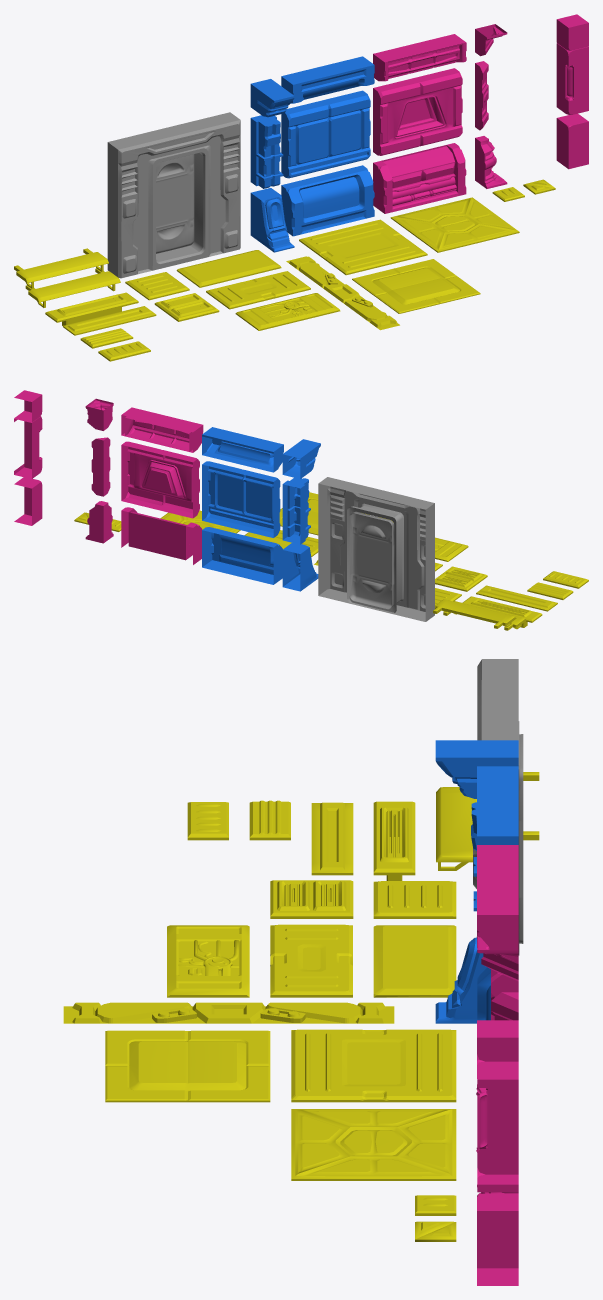
File: Sci_Fi_Modules.fbx
3 views of the same model, one above another, from view 1: azimuth 30°, elevation 25°; view 2: azimuth 150°, elevation 25°; view 3: azimuth 270°, elevation 25° (orthographic). The views are drawn at different scales.
Visible parts, largest first — view 1: doorframe, wall_mid2, wall_mid1, wall_bottom2, wall_bottom1, floor_4x4_1, ceiling_4x4_1, floor_4x4_2, door, stairs_small, wall_top2, wall_top1 (+19 smaller); view 2: doorframe, wall_mid2, wall_mid1, door, wall_bottom1, wall_bottom2, wall_top2, wall_top1, column_mid, column_bottom, stairs_small, corner_inner_mid (+15 smaller); view 3: floor_4x4_1, floor_4x4_2, ceiling_4x4_1, column_ceiling, floor_4x2_2, floor_4x2_1, floor_4x2_3, corner_inner_mid, doorframe, corner_inner_top001, wall_top2, wall_top1 (+14 smaller).
Boxes of the visible parts, <box> form: doorframe: <box>107,112,240,278</box>; wall_mid2: <box>373,68,462,155</box>; wall_mid1: <box>281,90,370,178</box>; wall_bottom2: <box>373,143,466,213</box>; wall_bottom1: <box>281,165,374,236</box>; floor_4x4_1: <box>299,219,427,275</box>; ceiling_4x4_1: <box>390,197,519,252</box>; floor_4x4_2: <box>352,259,480,313</box>; door: <box>156,154,194,253</box>; stairs_small: <box>14,248,120,307</box>; wall_top2: <box>373,34,466,81</box>; wall_top1: <box>281,56,374,103</box>; doorframe: <box>318,477,434,621</box>; wall_mid2: <box>121,441,199,518</box>; wall_mid1: <box>202,461,280,537</box>; door: <box>349,511,394,609</box>; wall_bottom1: <box>202,527,282,584</box>; wall_bottom2: <box>121,507,202,564</box>; wall_top2: <box>121,407,203,452</box>; wall_top1: <box>202,427,283,472</box>; column_mid: <box>282,477,310,544</box>; column_bottom: <box>282,543,318,591</box>; stairs_small: <box>433,599,526,630</box>; corner_inner_mid: <box>14,416,42,479</box>; floor_4x4_1: <box>291,1029,456,1102</box>; floor_4x4_2: <box>105,1030,270,1102</box>; ceiling_4x4_1: <box>291,1109,456,1180</box>; column_ceiling: <box>63,1002,394,1023</box>; floor_4x2_2: <box>270,924,352,997</box>; floor_4x2_1: <box>373,925,456,997</box>; floor_4x2_3: <box>167,925,249,997</box>; corner_inner_mid: <box>476,1079,518,1192</box>; doorframe: <box>473,659,519,955</box>; corner_inner_top001: <box>477,1193,518,1285</box>; wall_top2: <box>477,845,518,945</box>; wall_top1: <box>477,766,518,844</box>.
Size of the model in its own units: 541 by 226 by 151.
